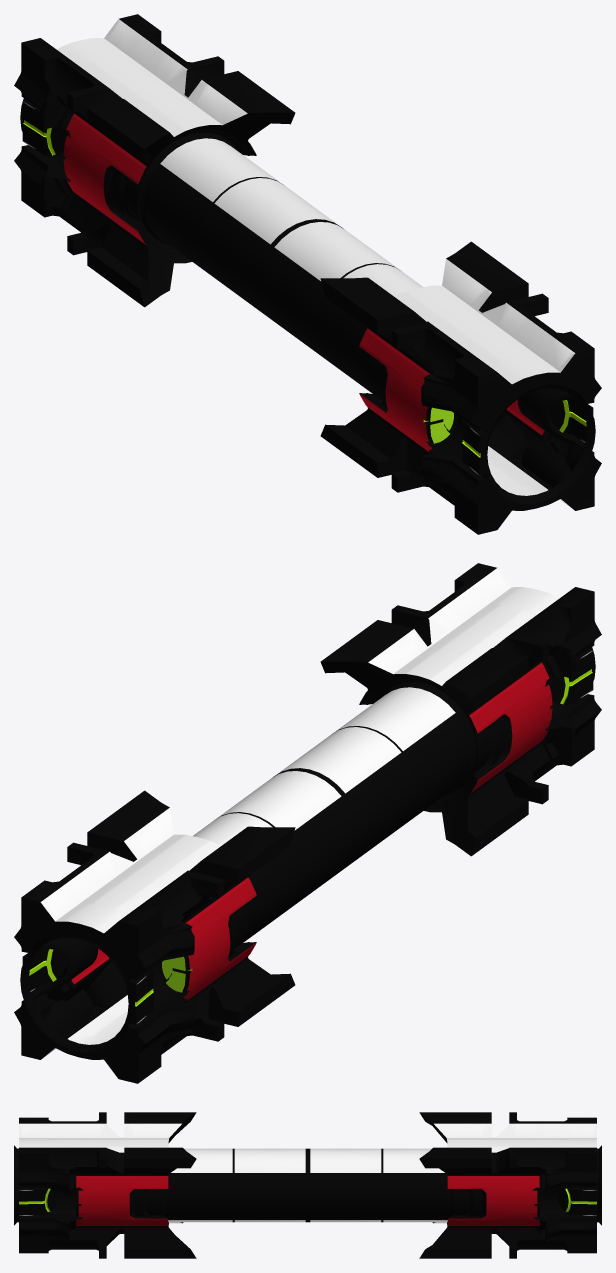
File: part_main-lod0.dae
The picture shows the model from 3 angles, top to bottom: view 1: azimuth 30°, elevation 25°; view 2: azimuth 150°, elevation 25°; view 3: azimuth 270°, elevation 25°; orthographic projection. The views are drawn at different scales.
Parts seen in each view (by area): view 1: part_main-lod0Xlod0Xp2genericXgen_p2_hulltexture_02, part_main-lod0Xlod0Xp2genericXgen_p2_hullpattern_01, part_main-lod0Xlod0Xp2genericXgen_p2_hulltexture_02_b, part_main-lod0Xlod0Xp2genericXgen_p2_hulltexture_02_c, part_main-lod0Xlod0Xp2multimatXp2_multimat_01; view 2: part_main-lod0Xlod0Xp2genericXgen_p2_hulltexture_02, part_main-lod0Xlod0Xp2genericXgen_p2_hullpattern_01, part_main-lod0Xlod0Xp2genericXgen_p2_hulltexture_02_b, part_main-lod0Xlod0Xp2genericXgen_p2_hulltexture_02_c, part_main-lod0Xlod0Xp2multimatXp2_multimat_01; view 3: part_main-lod0Xlod0Xp2genericXgen_p2_hulltexture_02, part_main-lod0Xlod0Xp2genericXgen_p2_hulltexture_02_b, part_main-lod0Xlod0Xp2genericXgen_p2_hullpattern_01, part_main-lod0Xlod0Xp2genericXgen_p2_hulltexture_02_c, part_main-lod0Xlod0Xp2multimatXp2_multimat_01.
Part boxes in pixels (x1=…): part_main-lod0Xlod0Xp2genericXgen_p2_hulltexture_02: x1=14, y1=19, x2=595, y2=534; part_main-lod0Xlod0Xp2genericXgen_p2_hullpattern_01: x1=21, y1=14, x2=601, y2=534; part_main-lod0Xlod0Xp2genericXgen_p2_hulltexture_02_b: x1=103, y1=112, x2=397, y2=412; part_main-lod0Xlod0Xp2genericXgen_p2_hulltexture_02_c: x1=63, y1=40, x2=549, y2=495; part_main-lod0Xlod0Xp2multimatXp2_multimat_01: x1=23, y1=117, x2=586, y2=457; part_main-lod0Xlod0Xp2genericXgen_p2_hulltexture_02: x1=20, y1=568, x2=601, y2=1083; part_main-lod0Xlod0Xp2genericXgen_p2_hullpattern_01: x1=14, y1=563, x2=594, y2=1083; part_main-lod0Xlod0Xp2genericXgen_p2_hulltexture_02_b: x1=218, y1=661, x2=512, y2=961; part_main-lod0Xlod0Xp2genericXgen_p2_hulltexture_02_c: x1=66, y1=589, x2=552, y2=1044; part_main-lod0Xlod0Xp2multimatXp2_multimat_01: x1=29, y1=666, x2=592, y2=1006; part_main-lod0Xlod0Xp2genericXgen_p2_hulltexture_02: x1=14, y1=1123, x2=601, y2=1253; part_main-lod0Xlod0Xp2genericXgen_p2_hulltexture_02_b: x1=129, y1=1112, x2=486, y2=1248; part_main-lod0Xlod0Xp2genericXgen_p2_hullpattern_01: x1=19, y1=1112, x2=596, y2=1258; part_main-lod0Xlod0Xp2genericXgen_p2_hulltexture_02_c: x1=23, y1=1139, x2=592, y2=1225; part_main-lod0Xlod0Xp2multimatXp2_multimat_01: x1=19, y1=1178, x2=596, y2=1225.
Size of the model in its own units: 12 by 12 by 64.
